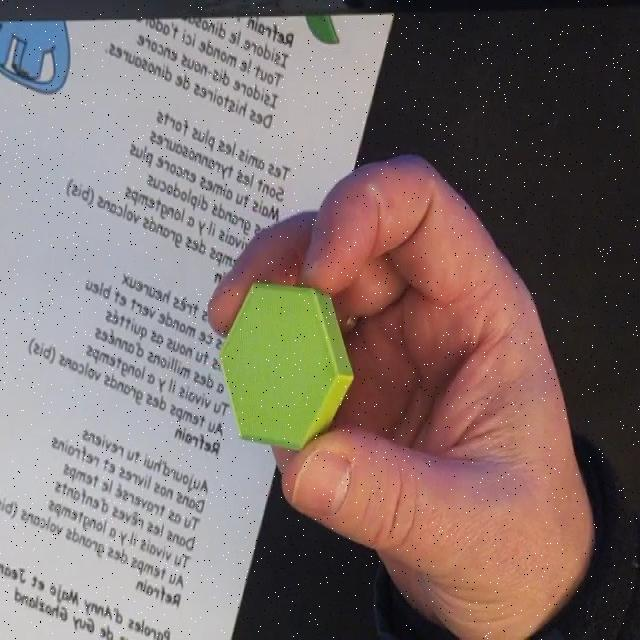hexagon: (221, 282, 354, 453)
